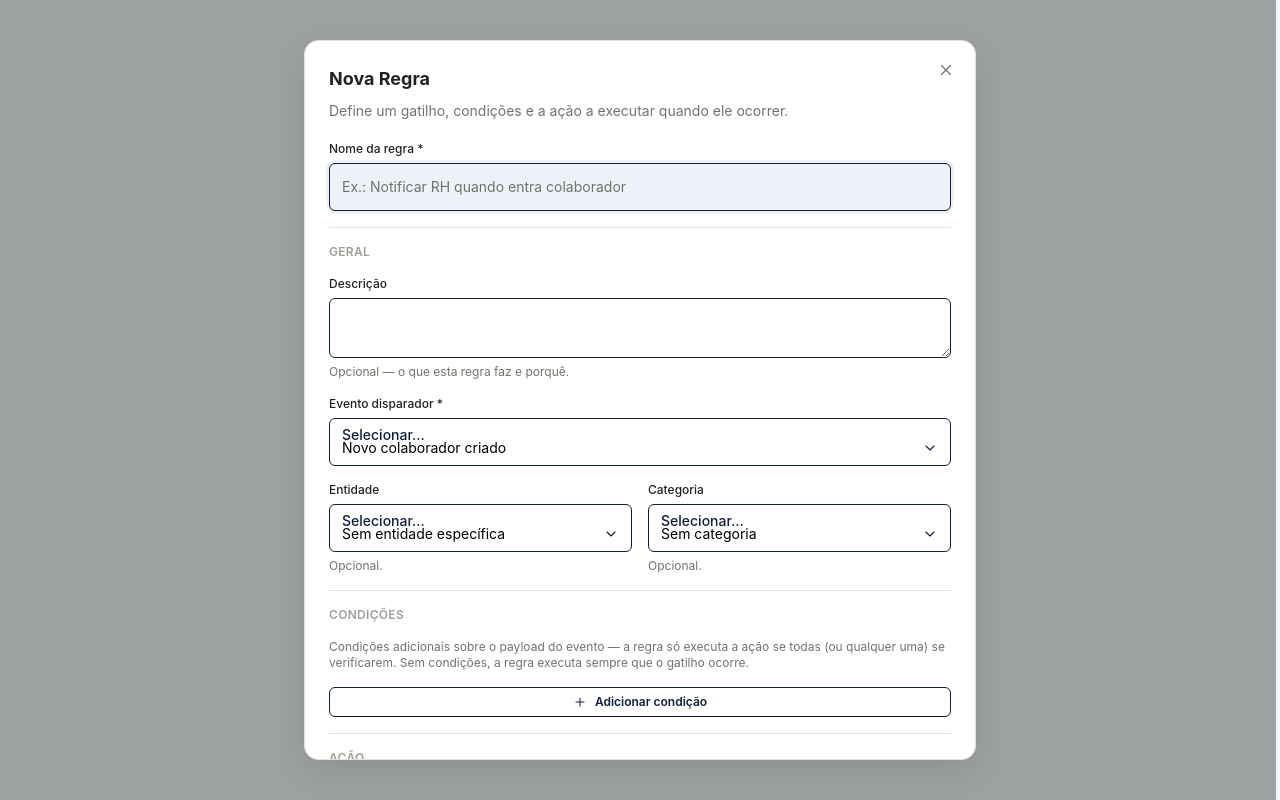
Test case: CreateRuleModal › erro da API — mostra mensagem
The width and height of the screenshot is (1280, 800).
Type "Regra Y" into the field labelled "Nome da regra *".
click(640, 187); type("Regra Y")  # box [329,163,951,211]
(page scrolled)
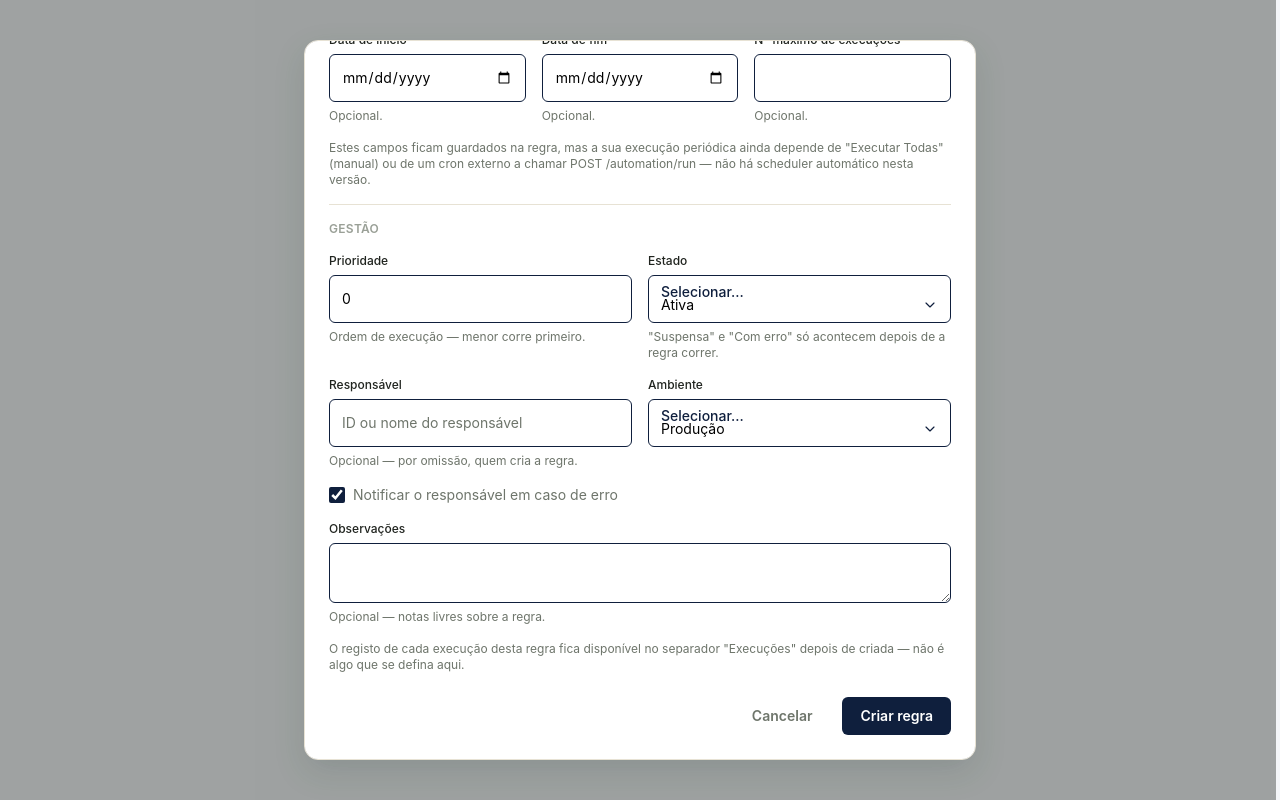
Click the button "Criar regra".
click(897, 716)  # box [842,697,951,735]
(page scrolled)
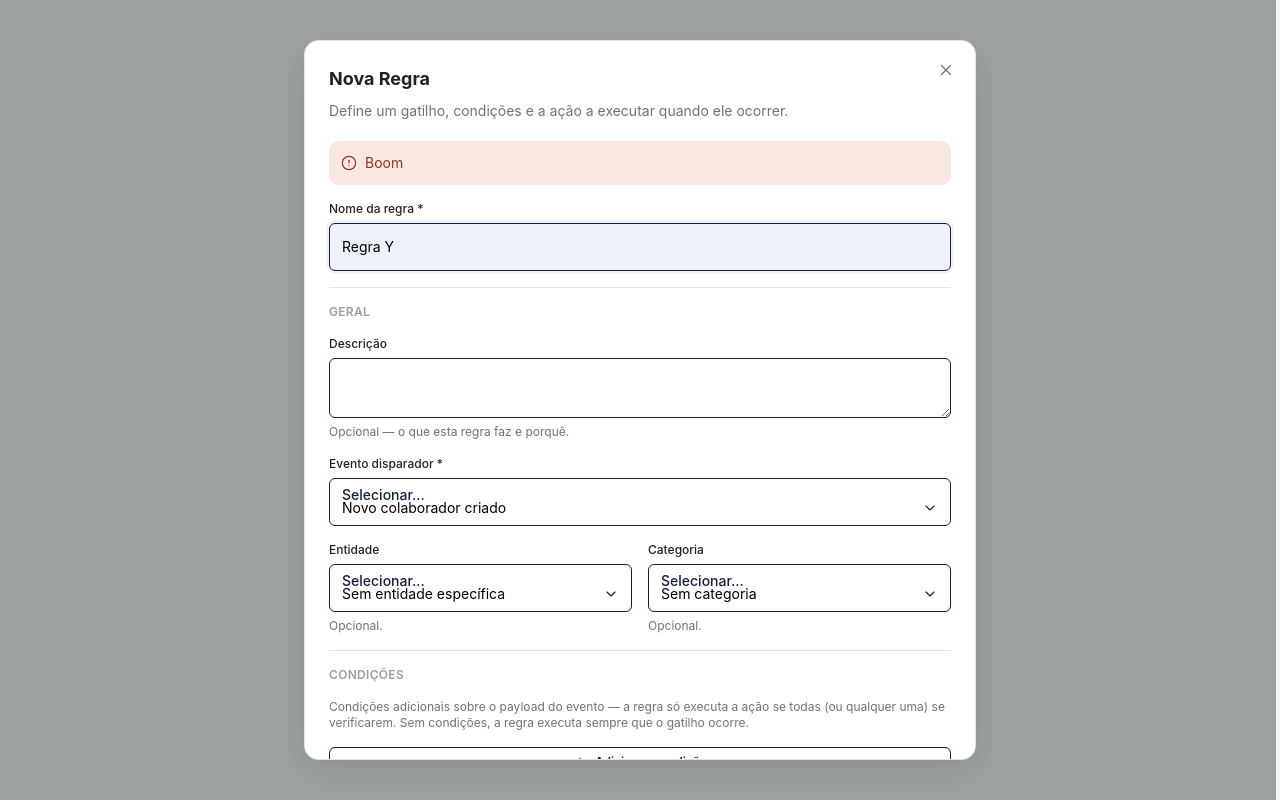
Expected: the text "Boom" is shown, [329,141,951,185]
